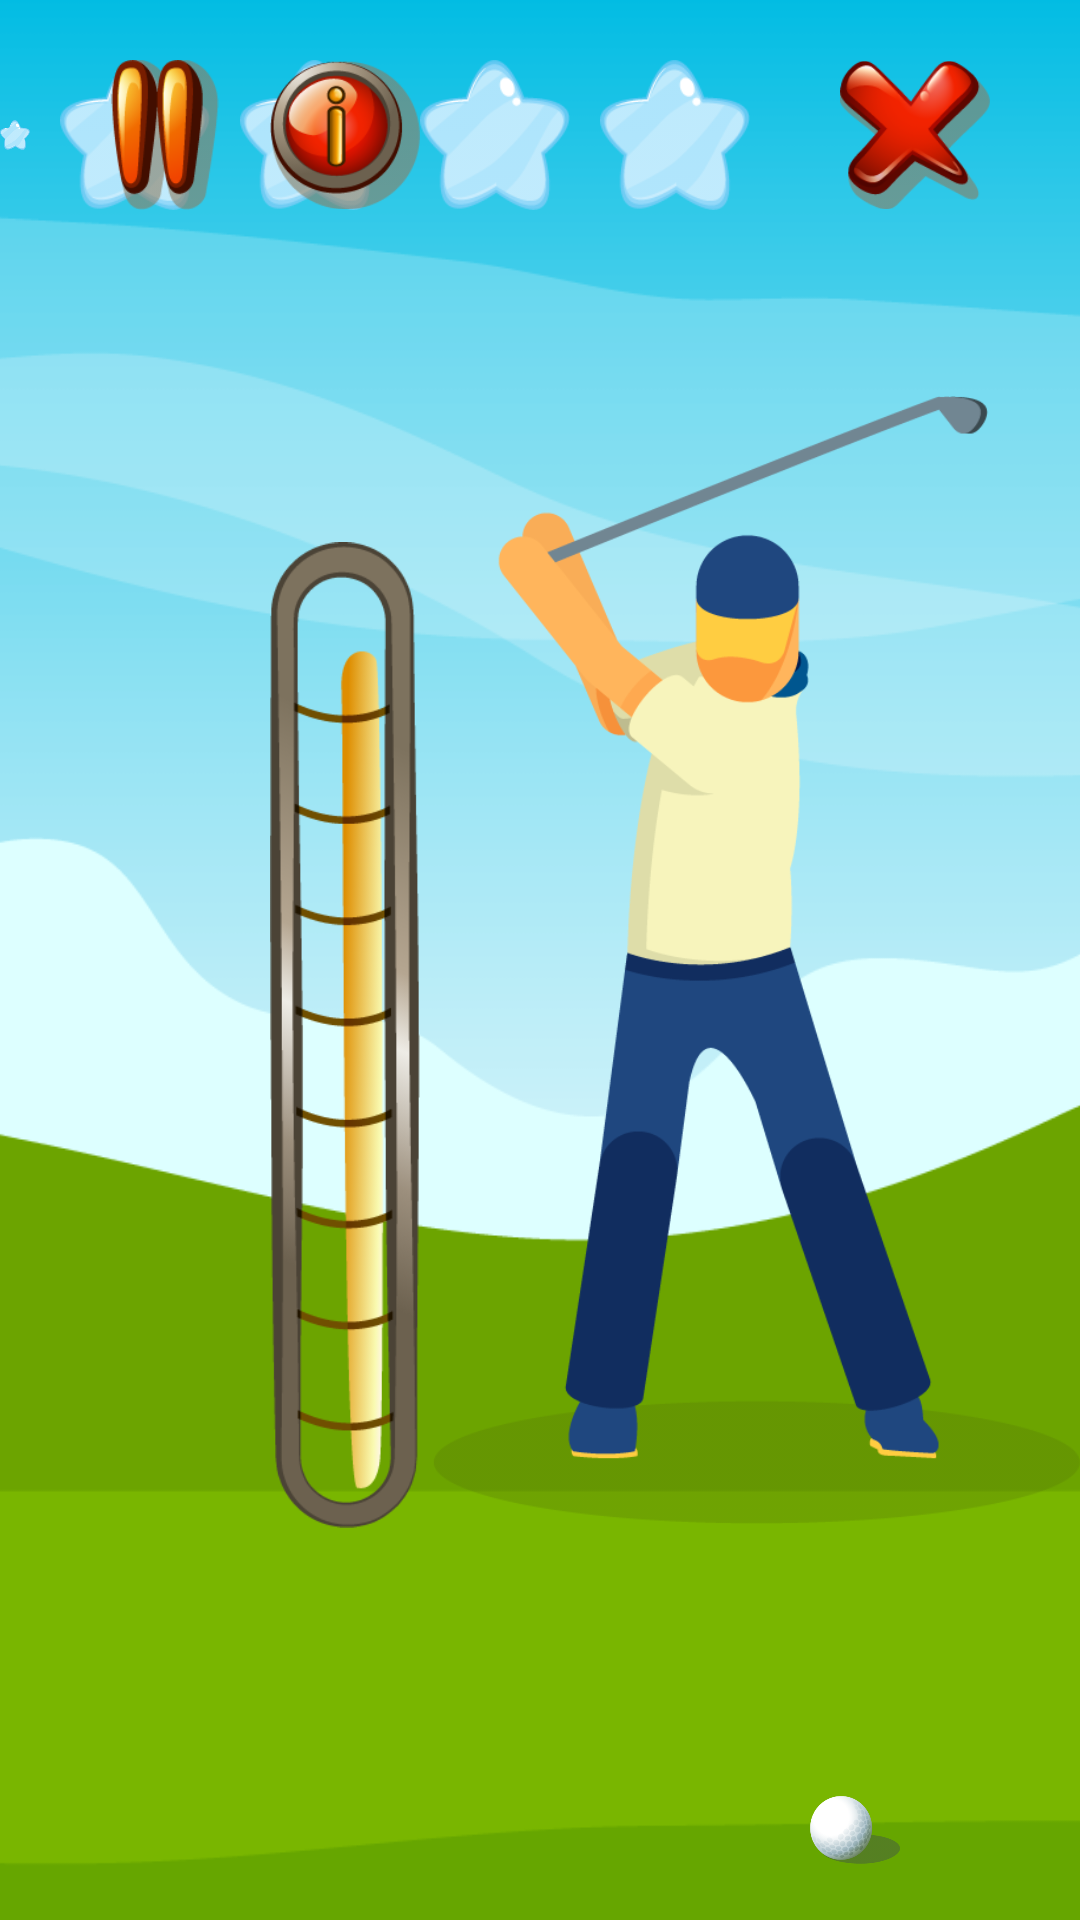

Icons on this 1080x1920 Android screen, each with the point to tap as [x,y]:
ball: [855,1830]
exit: [915,134]
